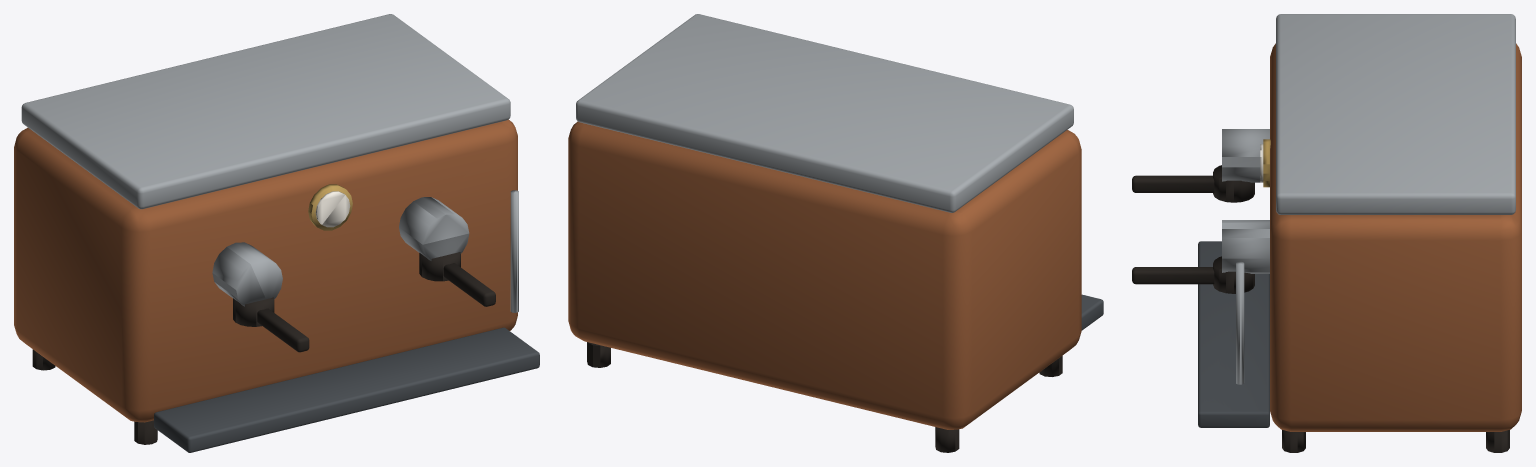
Rendered from espresso_machine_village.doublure.glb.
The picture shows the model from 3 angles, left to right: view 1: azimuth 30°, elevation 25°; view 2: azimuth 150°, elevation 25°; view 3: azimuth 270°, elevation 25°; orthographic projection.
Parts seen in each view (by area): view 1: espresso_machine_village; view 2: espresso_machine_village; view 3: espresso_machine_village.
Part boxes in pixels (x1,y1,x2,y2): espresso_machine_village: (14, 14, 539, 452); espresso_machine_village: (568, 14, 1103, 452); espresso_machine_village: (1132, 14, 1521, 452).
Bounding box in the file's own units: 0.76 × 0.48 × 0.65.
Materials: 1 (1 with a texture image).
